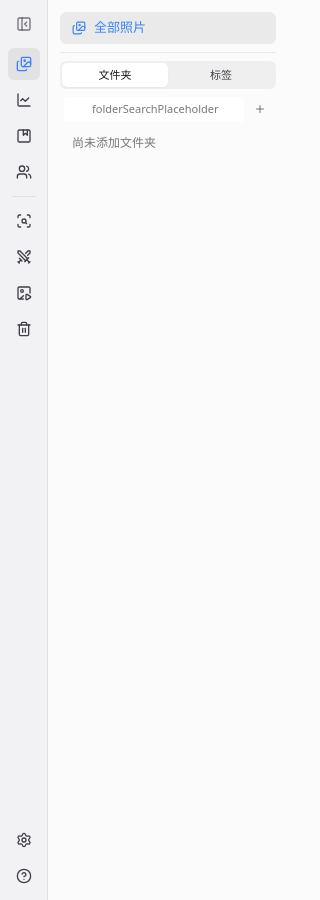
Scenario: Sidebar › shows automatic tag status instead of a batch action while AI is pending
Click the button "标签".
click(221, 75)  # box 168,62 -> 274,87
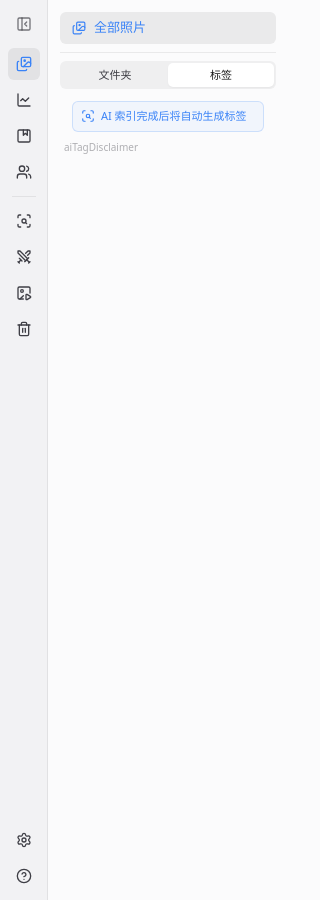
Expected: the text "AI 索引完成后将自动生成标签" is shown, 72,101 -> 264,132
